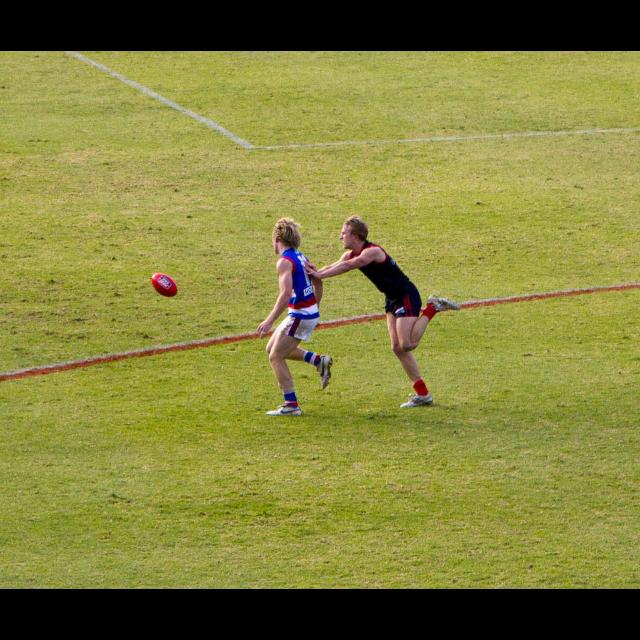Football: (150, 268, 178, 298)
